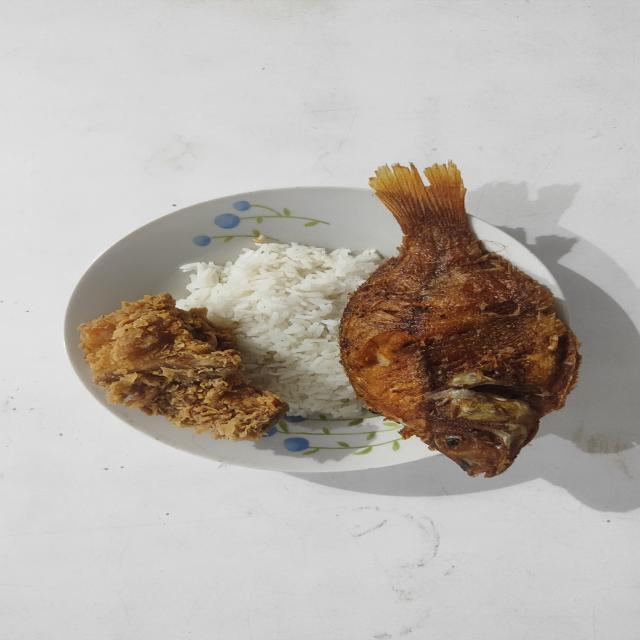ikan_mujair: (339, 162, 581, 478)
nasi_putih: (176, 236, 386, 420)
